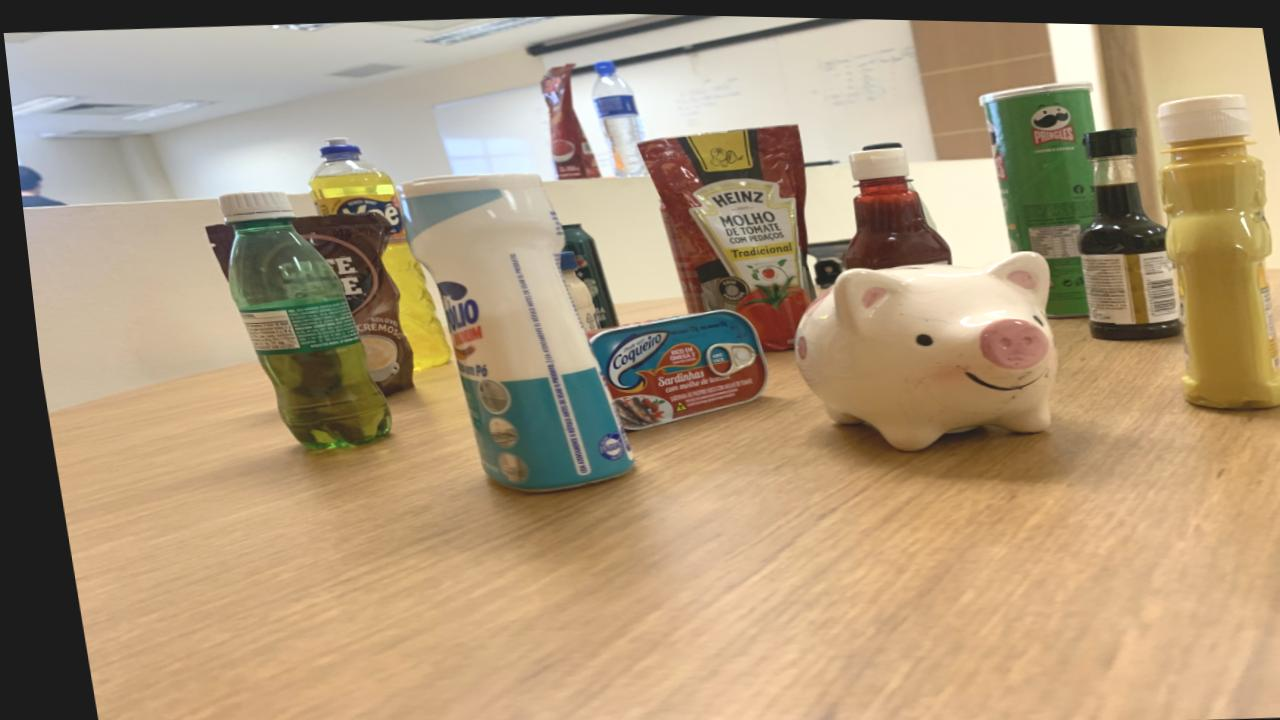Cleaner-Cleanup_Items: (400, 172, 624, 489)
Coffee-Pantry_Items: (286, 212, 406, 393), (202, 225, 228, 265)
Detergent-Cleanup_Items: (303, 136, 442, 367)
English_Sauce-Pantry_Items: (1072, 123, 1174, 335)
Guarana-Drinks: (213, 190, 382, 448)
Guarana_Can-Drinks: (556, 222, 612, 325)
Ketchup-Pantry_Items: (837, 137, 945, 266)
Mayonnaise-Pantry_Items: (553, 249, 593, 329)
Mustard-Pantry_Items: (1154, 88, 1280, 403)
Pig_Safe-Miscellaneous: (786, 248, 1050, 446)
Pringles-Snacks: (977, 78, 1091, 313)
Tomato_Sauce-Pantry_Items: (634, 122, 808, 347), (538, 62, 596, 177)
Tuna_Can-Pantry_Items: (582, 307, 759, 430)
Water_Bottle-Drinks: (590, 59, 643, 174)
